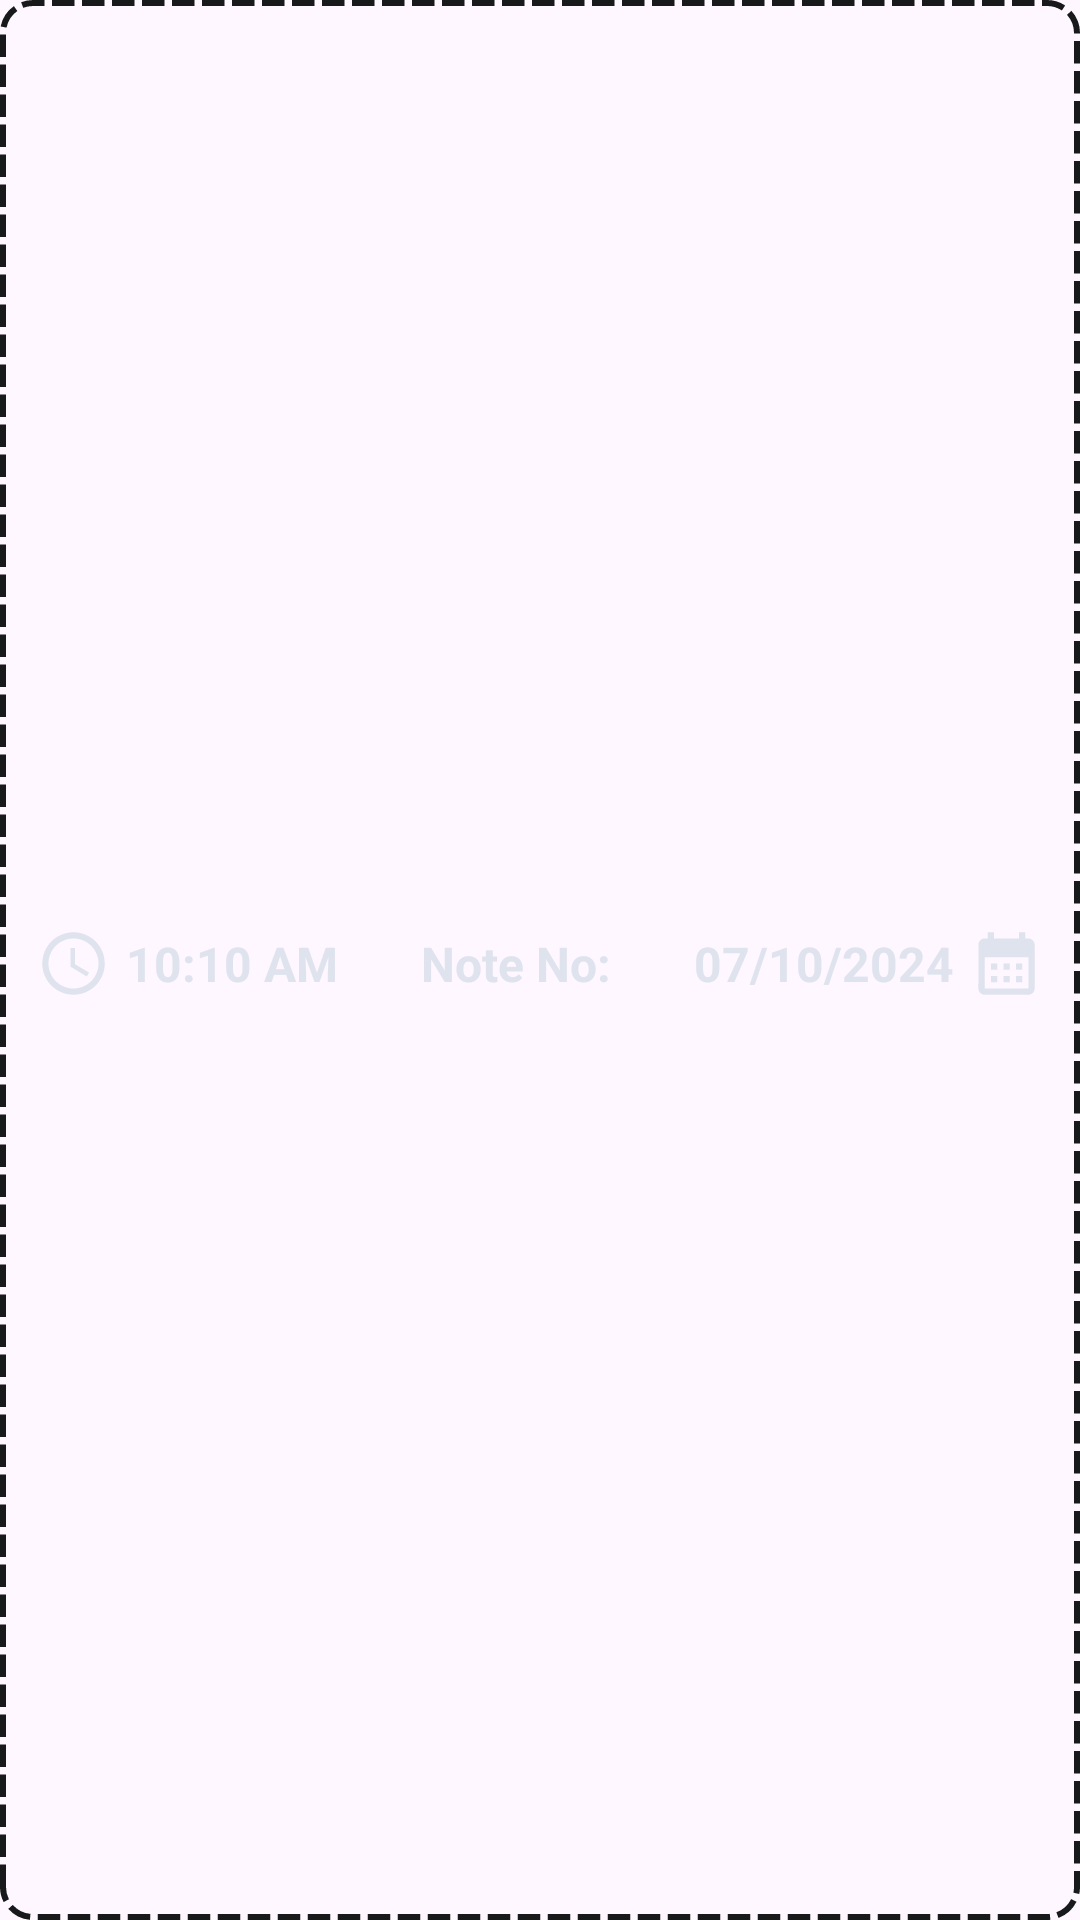

Locate icon controls on the screen. Image size 1080*1920, boxes as (x1, y1, x2, y2).
access time: (43, 933, 104, 994)
calendar month: (979, 933, 1034, 994)
